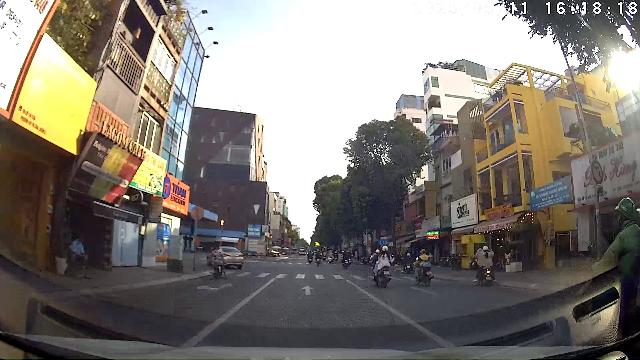123a-cam-re-trai: (592, 160, 604, 184)
